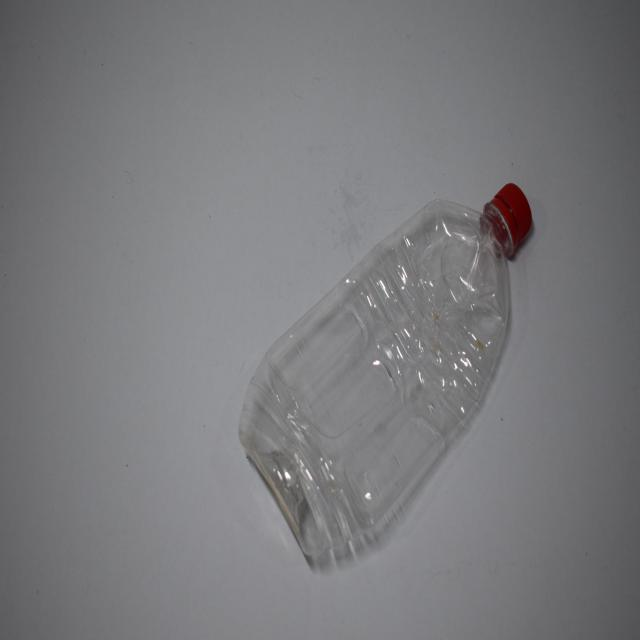bottle: (235, 169, 533, 573)
